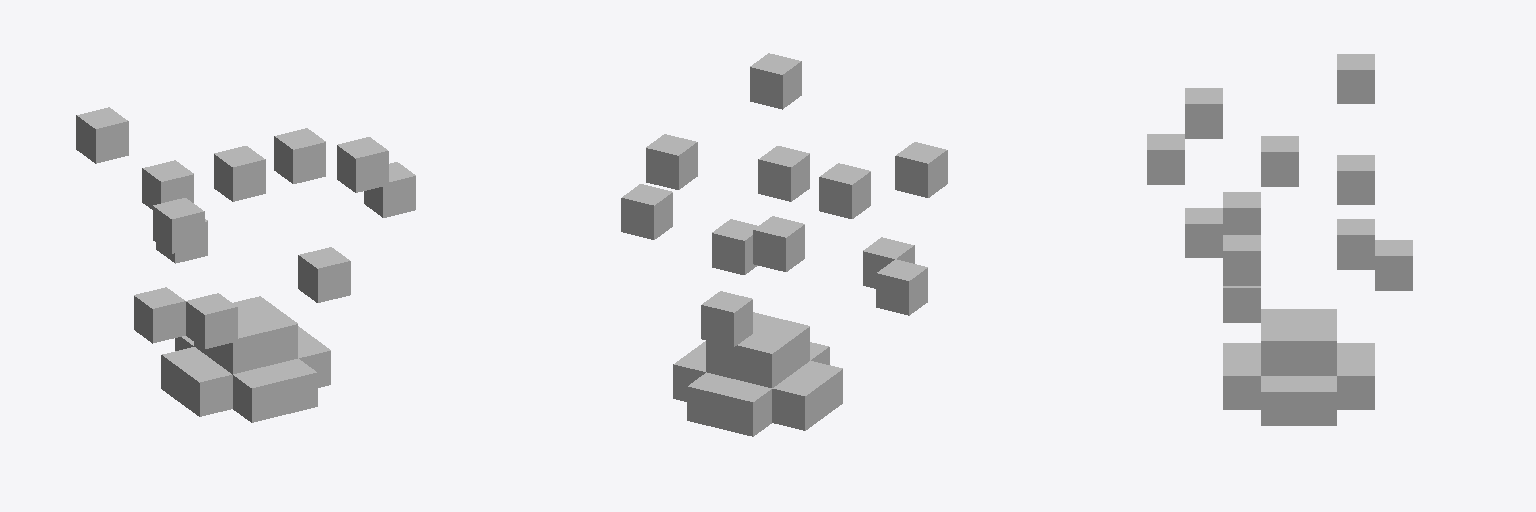
The model's file is star map.obj.
The picture shows the model from 3 angles: view 1: azimuth 30°, elevation 25°; view 2: azimuth 150°, elevation 25°; view 3: azimuth 270°, elevation 25°; orthographic projection.
Parts seen in each view (by area): view 1: object 1; view 2: object 1; view 3: object 1.
Part boxes in pixels (x1,y1,x2,y2): object 1: (76, 107, 415, 422); object 1: (621, 53, 947, 436); object 1: (1147, 54, 1412, 425).
Size of the model in its own units: 0.8 by 0.8 by 0.7.